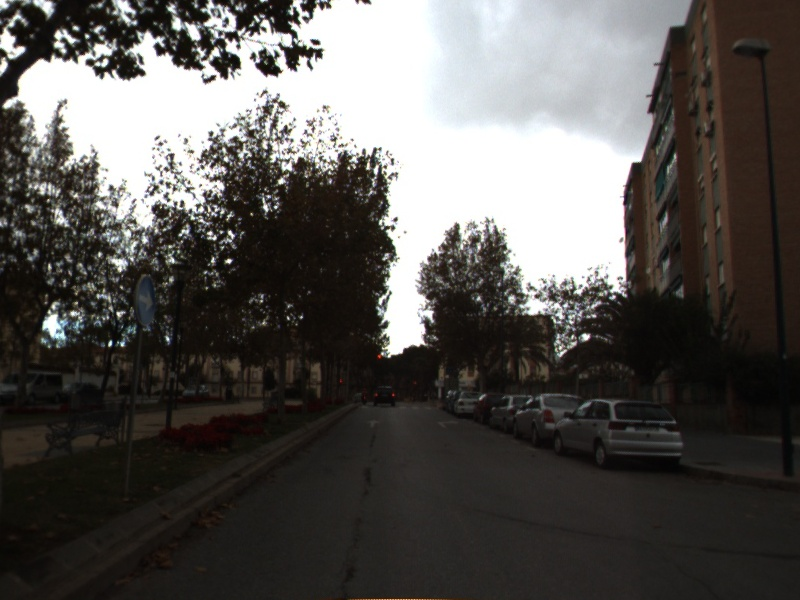RIGHT: (435, 418, 461, 430)
STRAIGHT: (364, 417, 382, 429)
